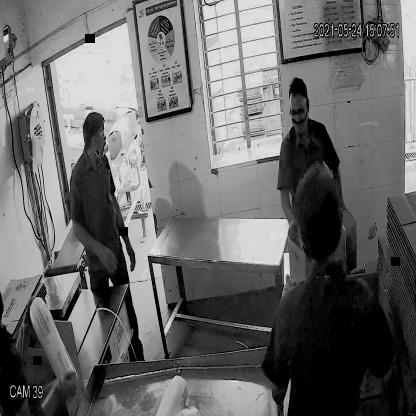goggles: (288, 102, 309, 121), (84, 129, 108, 144)
